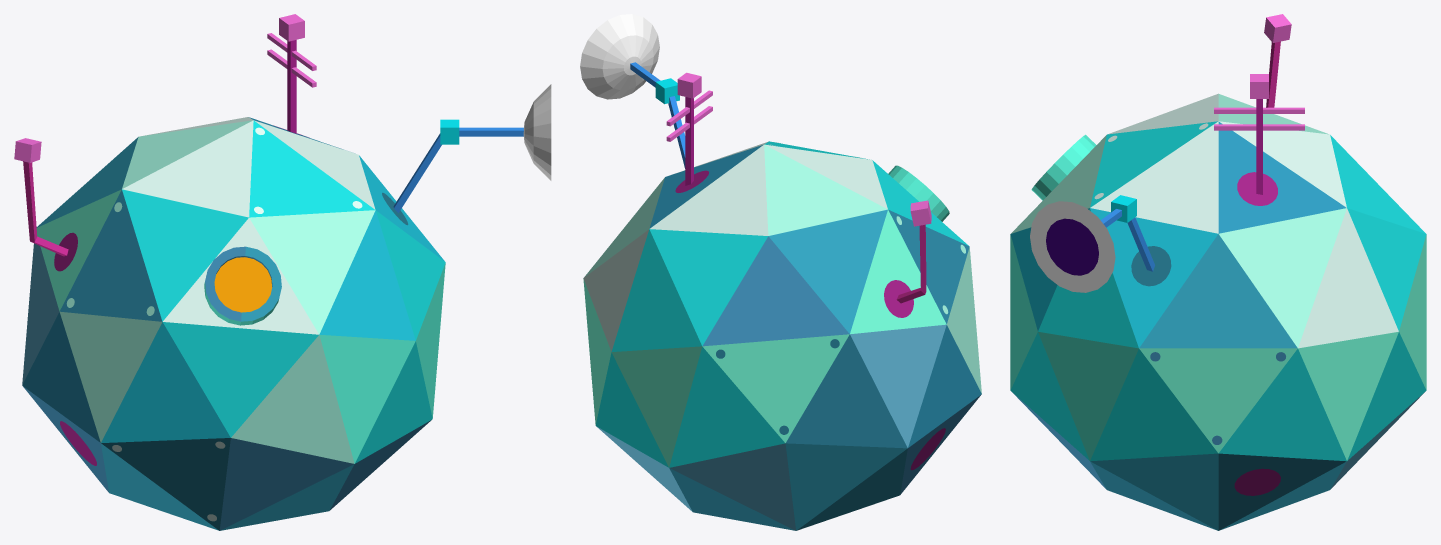
Rendered from Building_019_b.fbx.
The picture shows the model from 3 angles, left to right: view 1: azimuth 30°, elevation 25°; view 2: azimuth 150°, elevation 25°; view 3: azimuth 270°, elevation 25°; orthographic projection. The views are drawn at different scales.
Parts seen in each view (by area): view 1: Building_019_b_h; view 2: Building_019_b_h; view 3: Building_019_b_h.
Part boxes in pixels (<box>): Building_019_b_h: <box>14,14,551,530</box>; Building_019_b_h: <box>580,14,981,530</box>; Building_019_b_h: <box>1010,14,1426,530</box>.
Bounding box in the file's own units: 15.89 × 15.66 × 12.46.
